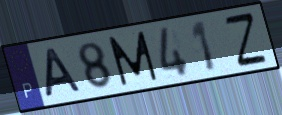1: (189, 18, 218, 75)
4: (158, 24, 191, 80)
8: (76, 40, 115, 90)
A: (44, 46, 85, 101)
M: (106, 29, 161, 88)
Z: (221, 9, 269, 69)
